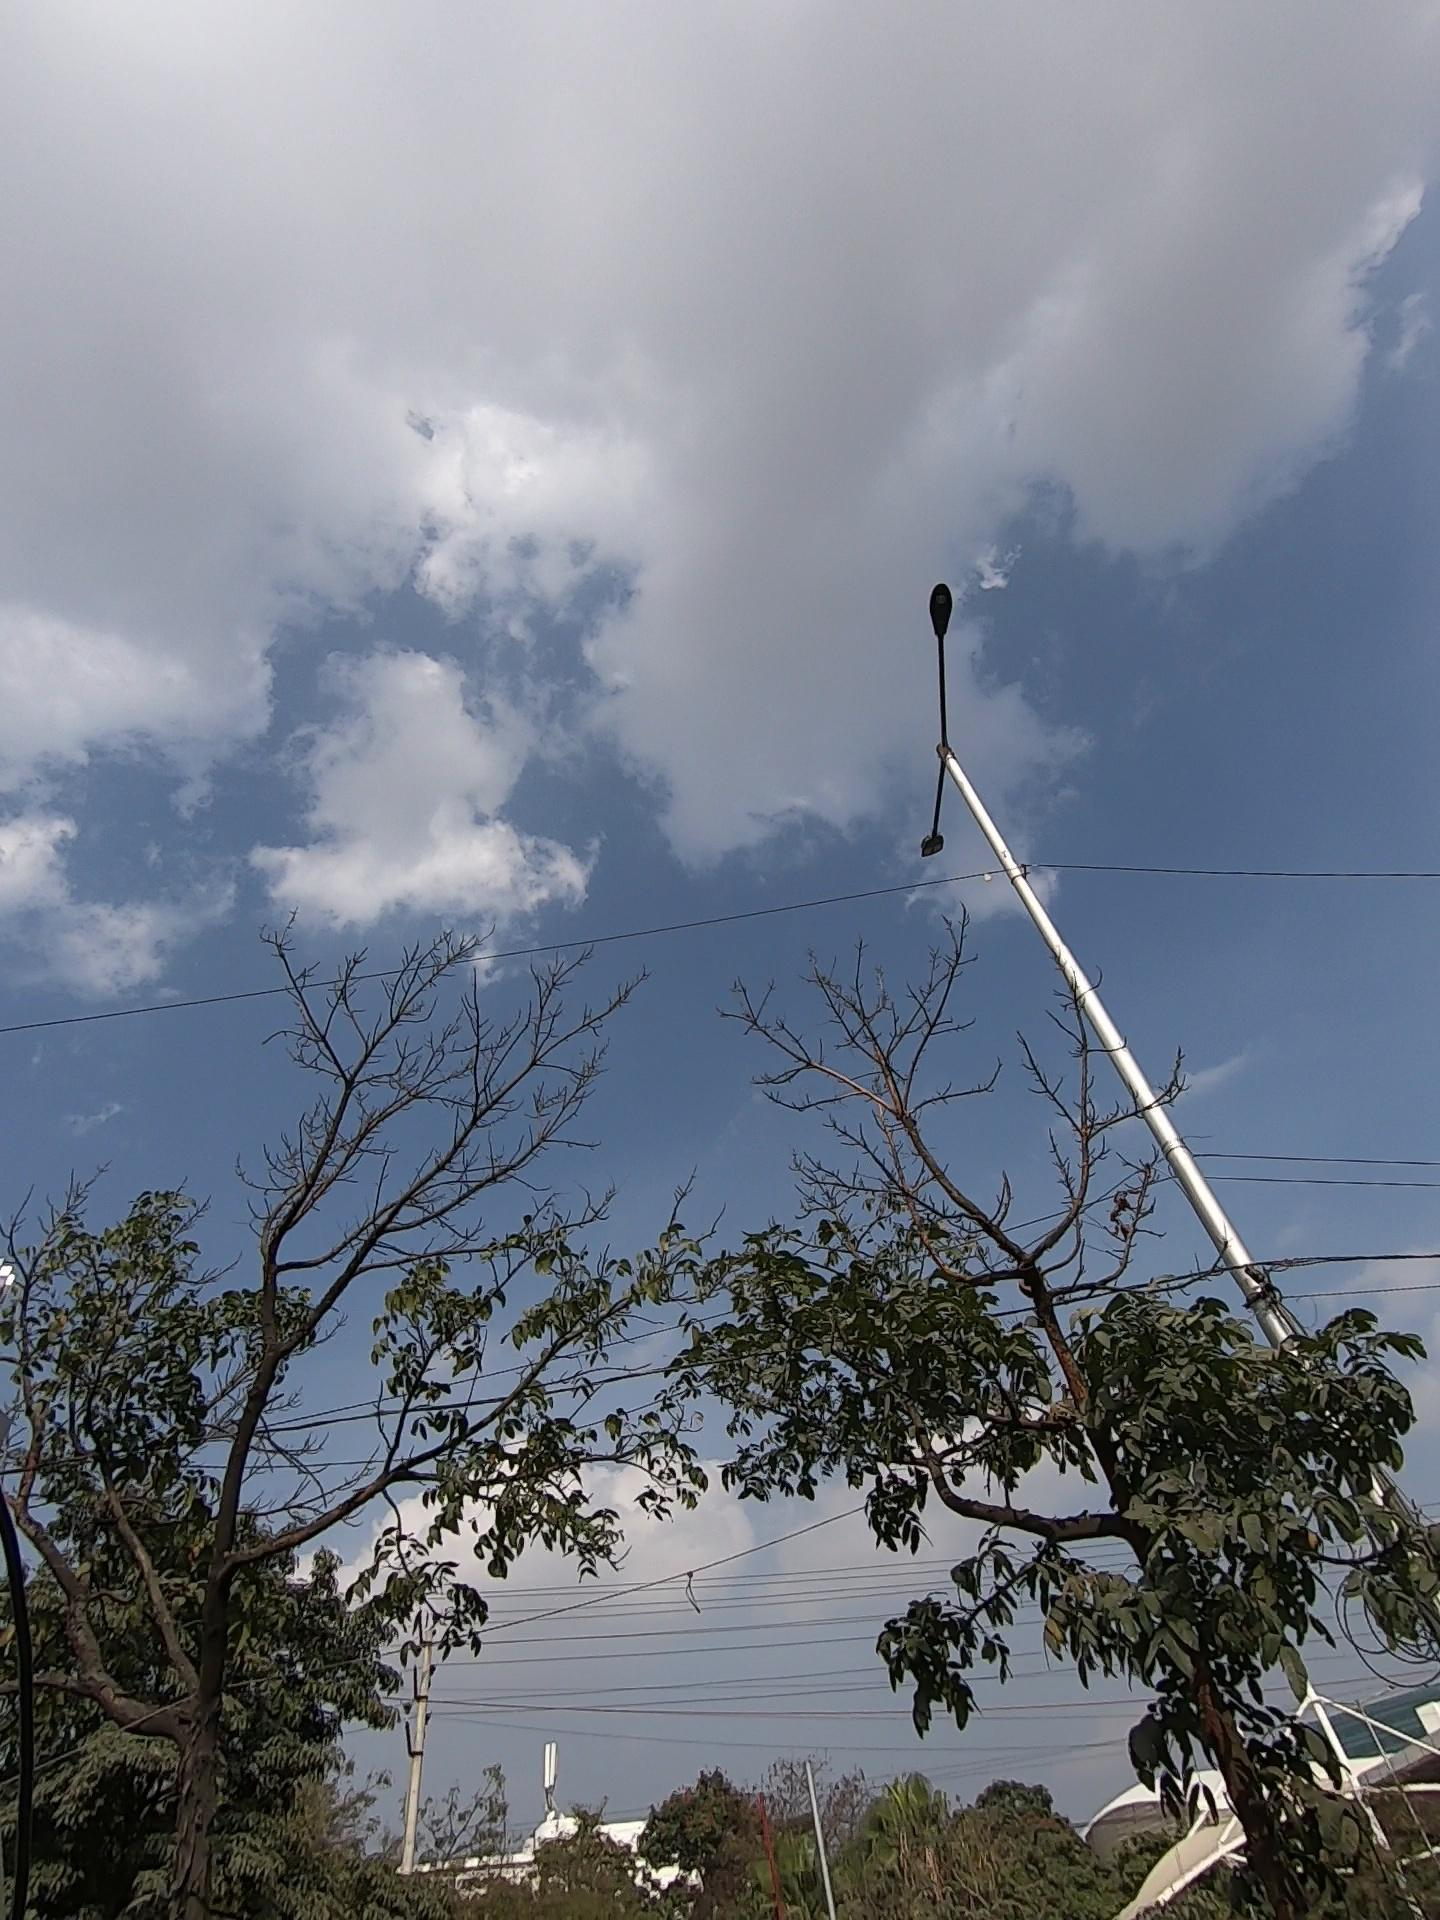off: (874, 550, 1000, 892)
